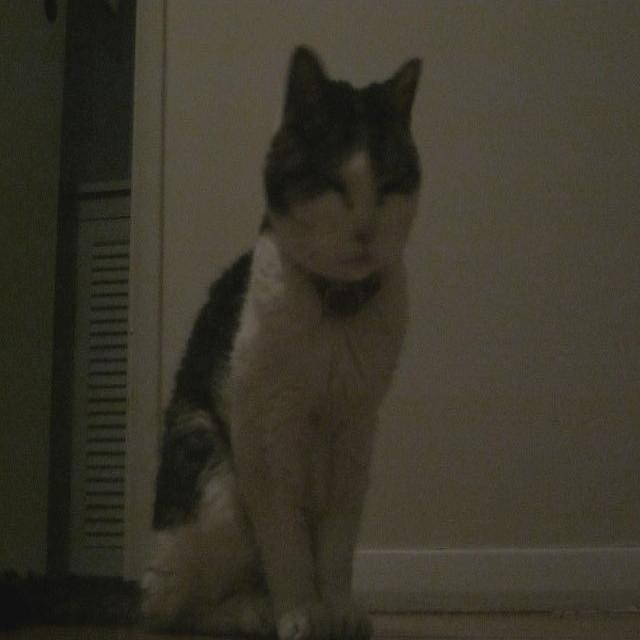Cat: (127, 28, 432, 640)
